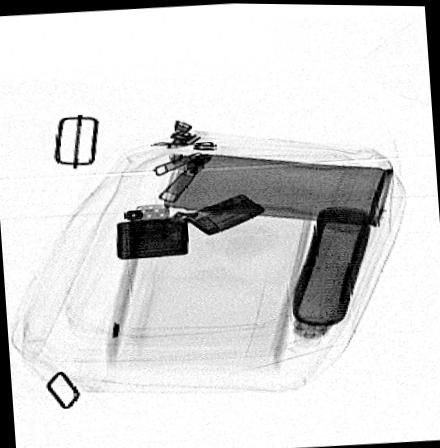Lighter: (115, 191, 266, 257)
